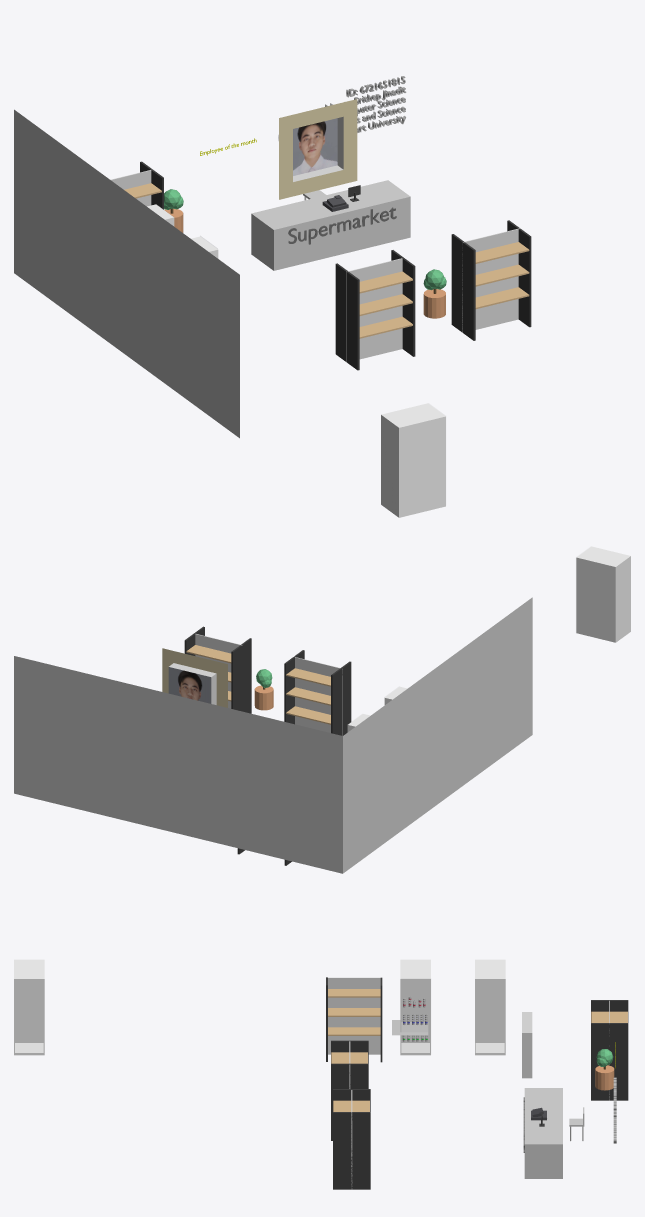
The model's file is Supermarket_3d_model.glb.
3 renders of one model, top to bottom at view 1: azimuth 30°, elevation 25°; view 2: azimuth 150°, elevation 25°; view 3: azimuth 270°, elevation 25°, orthographic. The views are drawn at different scales.
Visible parts, largest first — view 1: Plane.003, Cube, Cube.003, Plane.004, Gondola_Center_Panel, Gondola_Center_Panel.001, Frame_Post_-0.001, Frame_Post_-0.58, Text, Frame_Post_0.58, Frame_Post_0.001, Text.002; view 2: Plane.003, Cube.003, Plane.004, Gondola_Center_Panel, Frame_Post_-0.001, Frame_Post_-0.58, Gondola_Center_Panel.001, Frame_Post_0.58; view 3: Cube, Cube.003, Cube.004, Frame_Post_0.001, Cube.001, Gondola_Center_Panel.002, Frame_Post_0.003, Frame_Post_0.58, Plane.004, Frame_Post_-0.58, Grid.001, Frame_Post_-0.001 (+5 smaller).
Part boxes in pixels (<box>): Plane.003: <box>14,110,239,437</box>; Cube: <box>251,180,410,270</box>; Cube.003: <box>381,403,445,517</box>; Plane.004: <box>279,99,357,199</box>; Gondola_Center_Panel: <box>346,258,402,362</box>; Gondola_Center_Panel.001: <box>462,228,519,332</box>; Frame_Post_-0.001: <box>451,234,475,340</box>; Frame_Post_-0.58: <box>335,263,359,370</box>; Text: <box>278,76,406,140</box>; Frame_Post_0.58: <box>391,250,415,356</box>; Frame_Post_0.001: <box>507,220,531,327</box>; Text.002: <box>288,207,396,244</box>; Plane.003: <box>14,597,532,873</box>; Cube.003: <box>576,546,630,642</box>; Plane.004: <box>162,648,227,707</box>; Gondola_Center_Panel: <box>294,656,342,735</box>; Frame_Post_-0.001: <box>231,638,251,713</box>; Frame_Post_-0.58: <box>331,661,351,735</box>; Gondola_Center_Panel.001: <box>195,634,242,708</box>; Frame_Post_0.58: <box>284,650,304,724</box>; Cube: <box>524,1088,562,1178</box>; Cube.003: <box>14,959,44,1055</box>; Cube.004: <box>475,959,505,1055</box>; Frame_Post_0.001: <box>333,1112,370,1189</box>; Cube.001: <box>400,959,430,1055</box>; Gondola_Center_Panel.002: <box>328,977,380,1054</box>; Frame_Post_0.003: <box>591,1023,628,1100</box>; Frame_Post_0.58: <box>331,1063,368,1140</box>; Plane.004: <box>522,1012,532,1078</box>; Frame_Post_-0.58: <box>331,1040,368,1063</box>; Grid.001: <box>392,1020,428,1035</box>; Frame_Post_-0.001: <box>333,1089,370,1111</box>.
Size of the model in its own units: 10 by 4.21 by 16.12.
27 materials, 1 textured.
